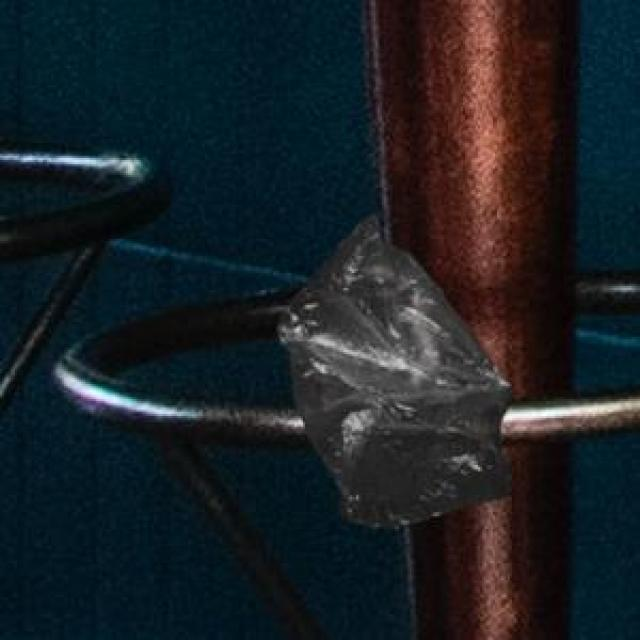Vinyl: (280, 219, 510, 524)
